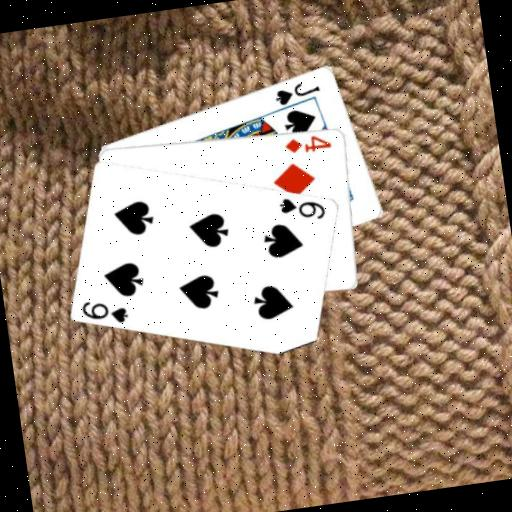4D: (282, 130, 335, 157)
6S: (275, 189, 329, 226), (78, 293, 132, 330)
JS: (271, 76, 324, 108)
